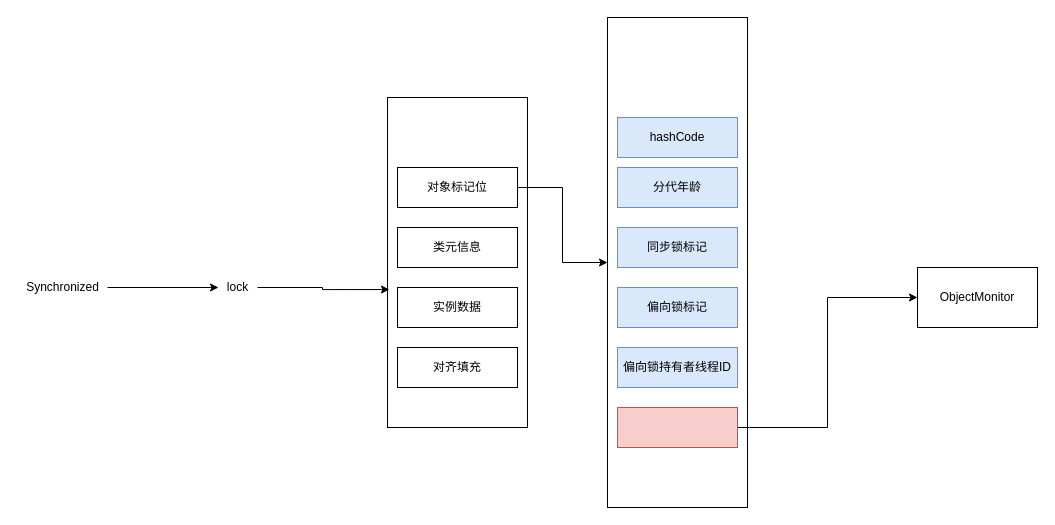
The diagram is 1055 pixels wide and 525 high, and some of its shapes have lost their labels. Each missing label, with the box of its shape:
Markoop: (606, 16, 748, 508)
monitor(): (616, 406, 738, 448)
对象在heap中的布局: (386, 96, 528, 428)
